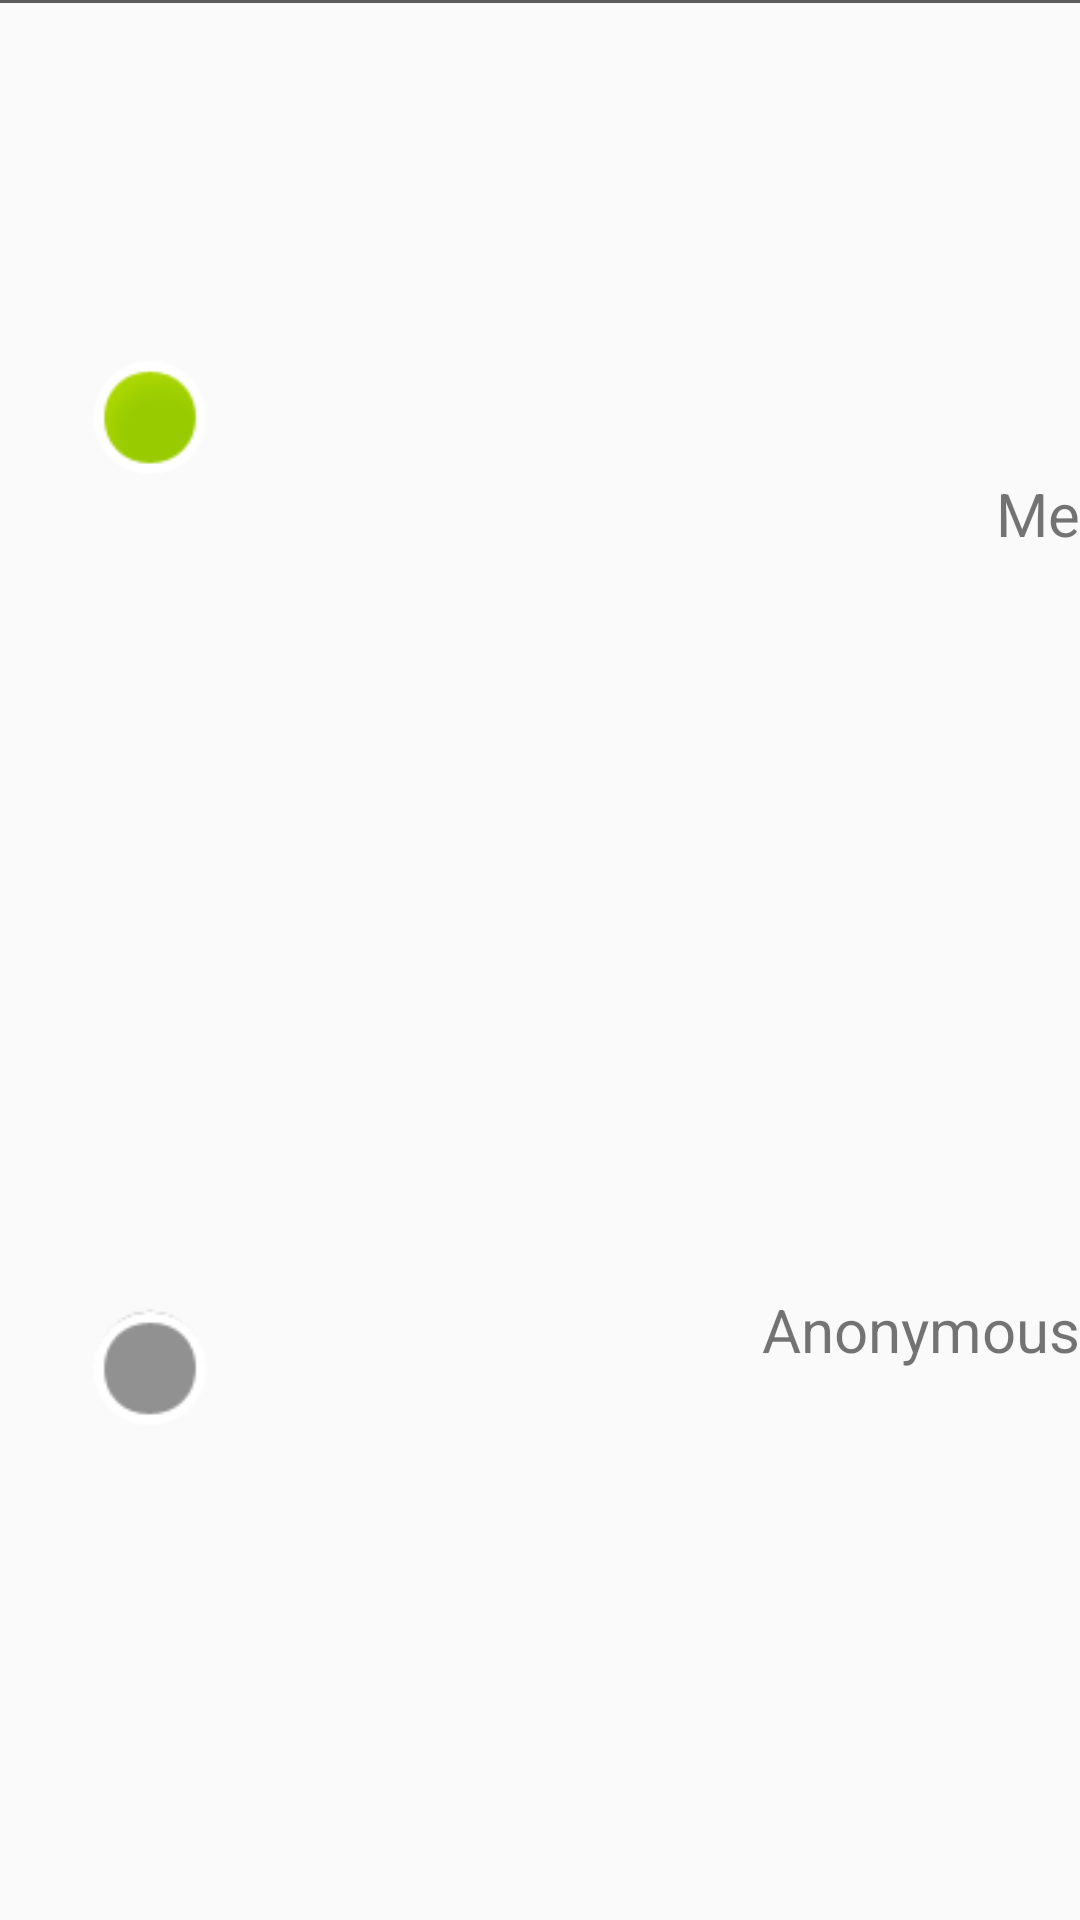

Icon click points for this 1080px×1920px phone screenshot, format point (x, y):
presence invisible: point (150, 1364)
presence online: point (150, 417)
